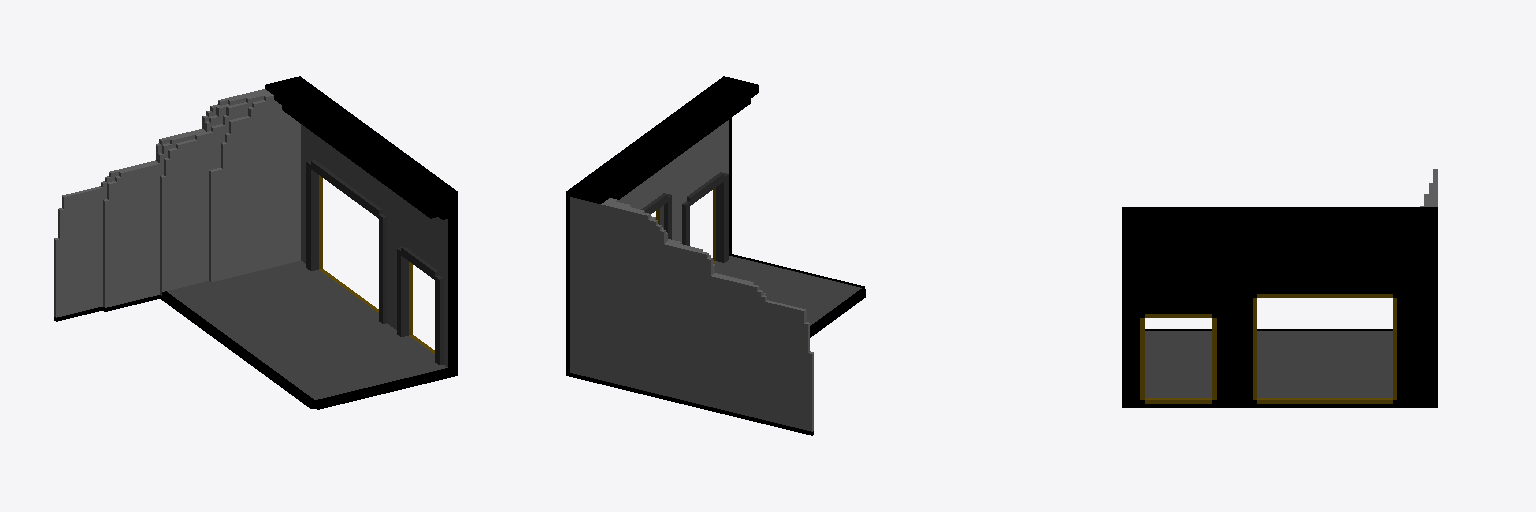
3 renders of one model, left to right at view 1: azimuth 30°, elevation 25°; view 2: azimuth 150°, elevation 25°; view 3: azimuth 270°, elevation 25°, orthographic.
Parts seen in each view (by area): view 1: Glavni_vhod_1lvl; view 2: Glavni_vhod_1lvl; view 3: Glavni_vhod_1lvl.
Part boxes in pixels (x1,y1,x2,y2): Glavni_vhod_1lvl: (54, 76, 457, 409); Glavni_vhod_1lvl: (566, 76, 865, 435); Glavni_vhod_1lvl: (1122, 169, 1437, 407).
Bounding box in the file's own units: 6.3 × 4.5 × 7.
1 materials, 1 textured.